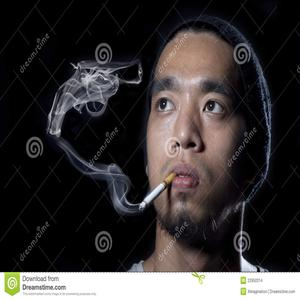cigarette: (136, 170, 174, 213)
